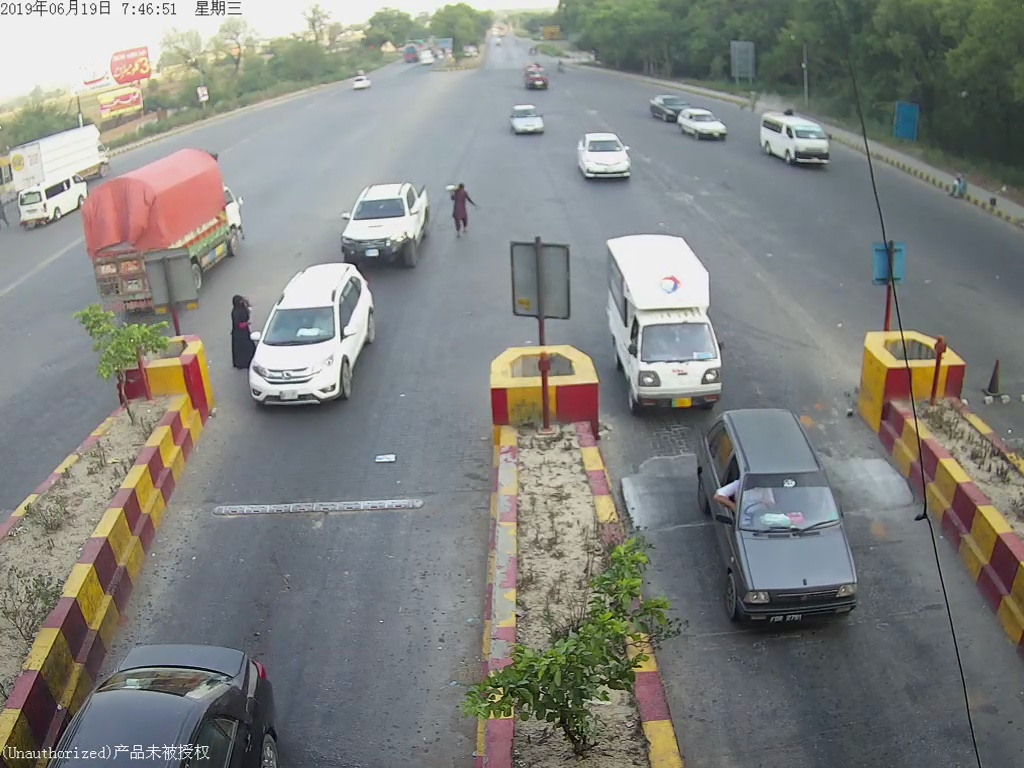Cat-1: (689, 419, 877, 629), (602, 234, 731, 415), (248, 261, 380, 425), (336, 176, 429, 263)
